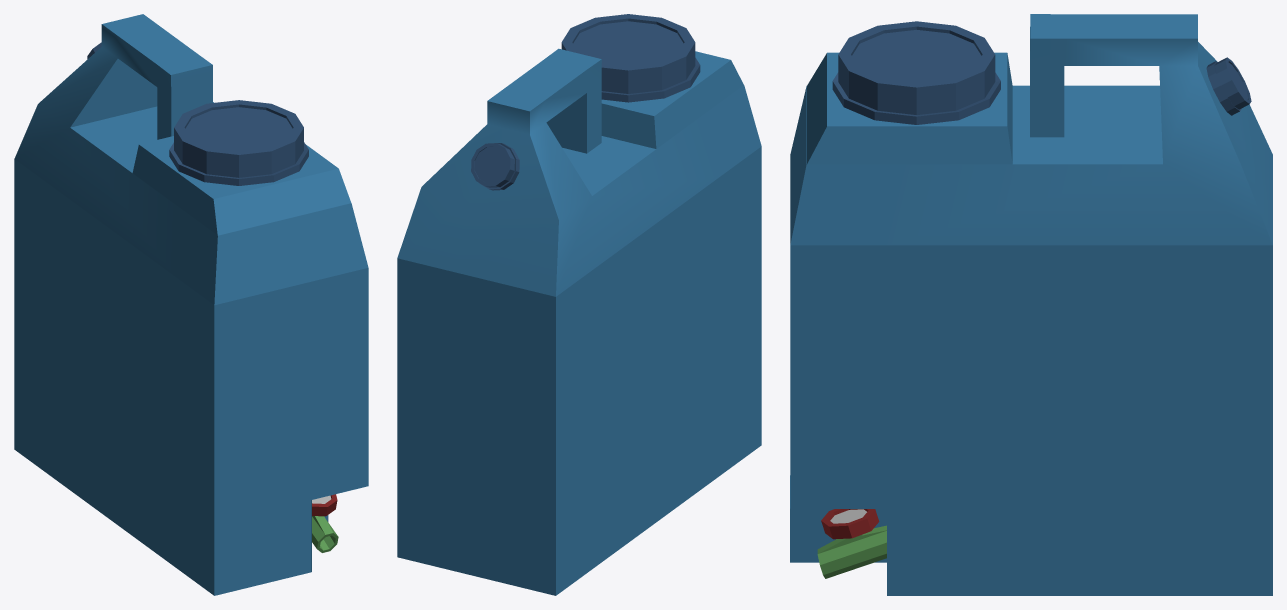
Rendered from lagayan_ng_tubig.fbx.
3 views of the same model, side by side, from view 1: azimuth 30°, elevation 25°; view 2: azimuth 150°, elevation 25°; view 3: azimuth 270°, elevation 25° (orthographic). The views are drawn at different scales.
Visible parts, largest first — view 1: pCylinder5; view 2: pCylinder5; view 3: pCylinder5.
Part boxes in pixels (x1=…): pCylinder5: x1=14, y1=14, x2=368, y2=595; pCylinder5: x1=397, y1=14, x2=761, y2=595; pCylinder5: x1=790, y1=14, x2=1272, y2=595.
Bounding box in the file's own units: 2.68 × 7.22 × 6.03.
